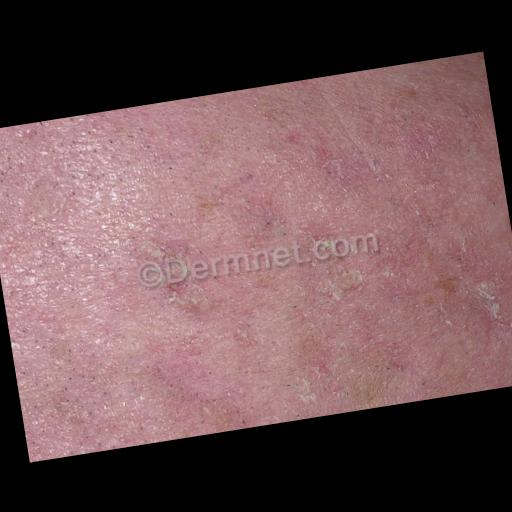Skin_Lesion: (309, 316, 408, 415), (294, 241, 378, 312), (444, 257, 512, 333), (146, 258, 213, 324)
